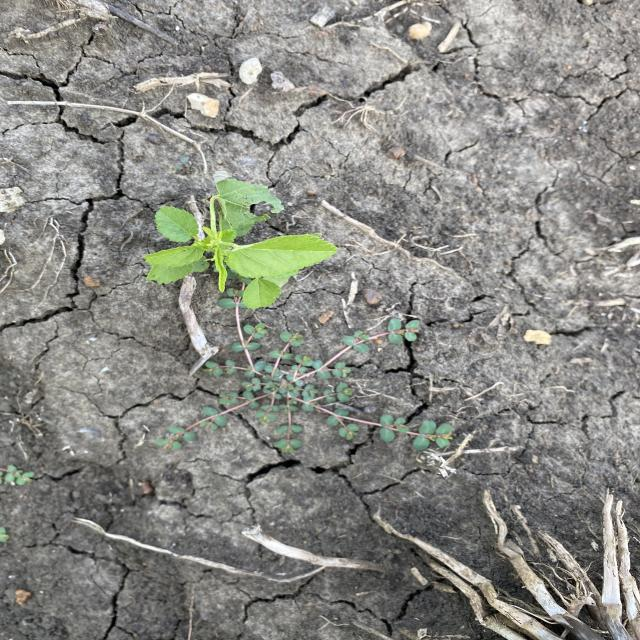PricklySida: (138, 176, 342, 312)
SpottedSpurge: (148, 278, 458, 458)
